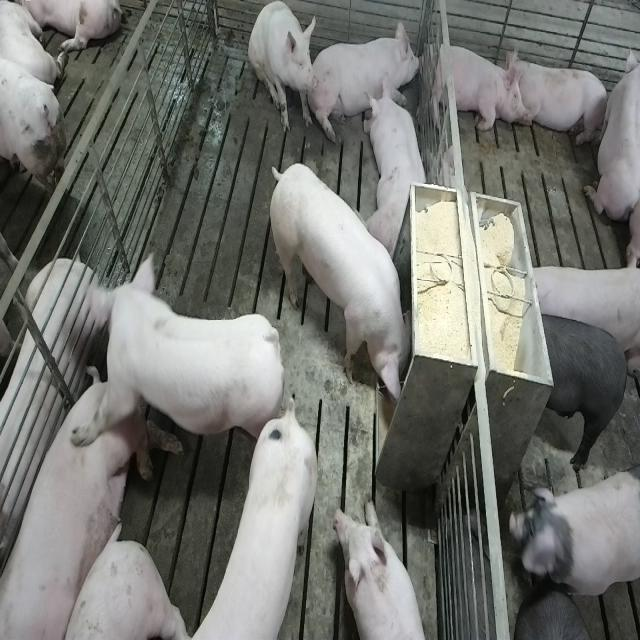Feeding: (272, 161, 420, 415)
Sitting: (248, 2, 319, 137)
Standing: (70, 255, 290, 484), (188, 397, 320, 639), (509, 456, 638, 613), (534, 306, 628, 470), (526, 267, 636, 352), (514, 592, 601, 640)
Sternal_lying: (336, 501, 434, 640), (314, 17, 423, 141), (367, 78, 430, 257), (583, 38, 637, 226), (509, 51, 611, 149), (425, 37, 520, 135)
